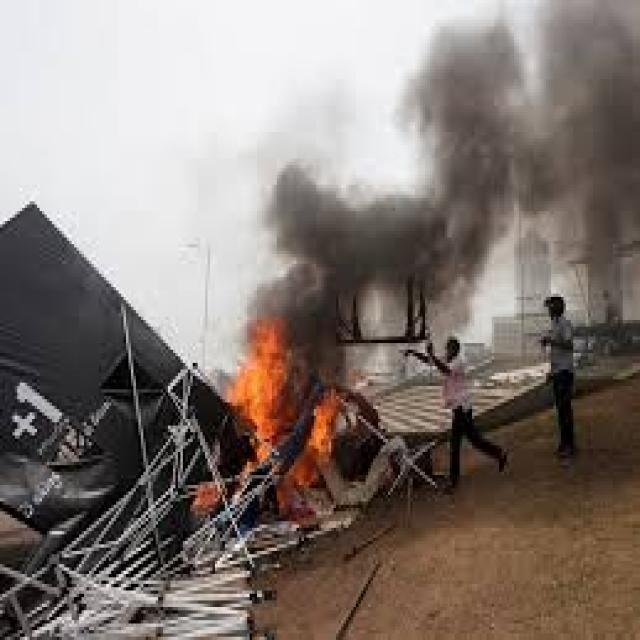Smoke: (440, 0, 640, 247), (246, 162, 486, 324), (236, 318, 340, 500), (393, 47, 442, 161), (261, 105, 351, 160), (195, 478, 224, 520)
